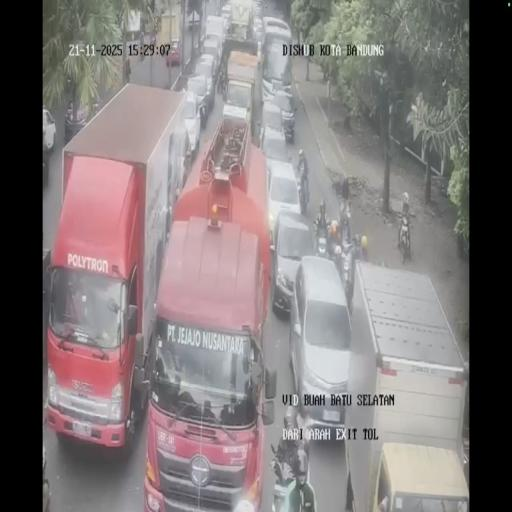car: (272, 209, 316, 317), (258, 100, 287, 152), (180, 92, 202, 156), (195, 51, 216, 90), (252, 16, 264, 46), (220, 2, 232, 32)
motorcycle: (338, 241, 356, 297), (398, 212, 412, 264), (296, 168, 310, 214), (314, 222, 330, 258), (340, 204, 352, 244)
truck: (46, 81, 194, 452), (337, 260, 468, 509), (223, 50, 259, 136), (261, 16, 293, 94), (203, 14, 226, 64)
